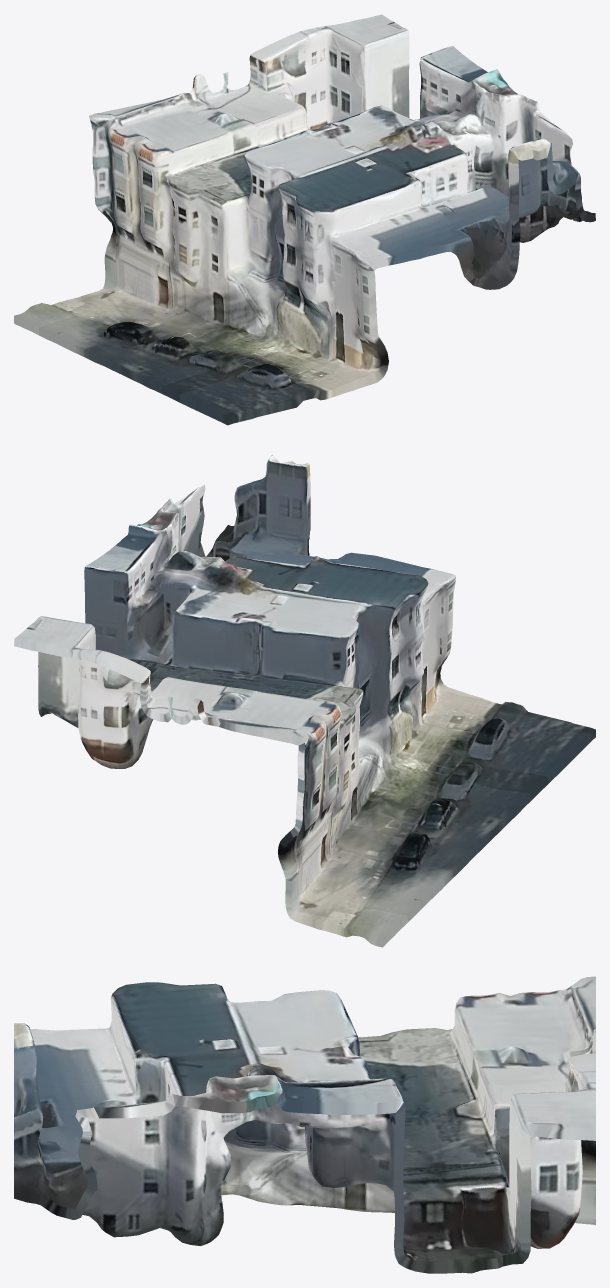
The model's file is z20-167747-405194-h0-yup-uvflip-v3-world.glb.
3 renders of one model, top to bottom at view 1: azimuth 30°, elevation 25°; view 2: azimuth 150°, elevation 25°; view 3: azimuth 270°, elevation 25°, orthographic. The views are drawn at different scales.
Bounding box in the file's own units: 30.2 × 20.24 × 30.32.
1 material, 1 textured.
